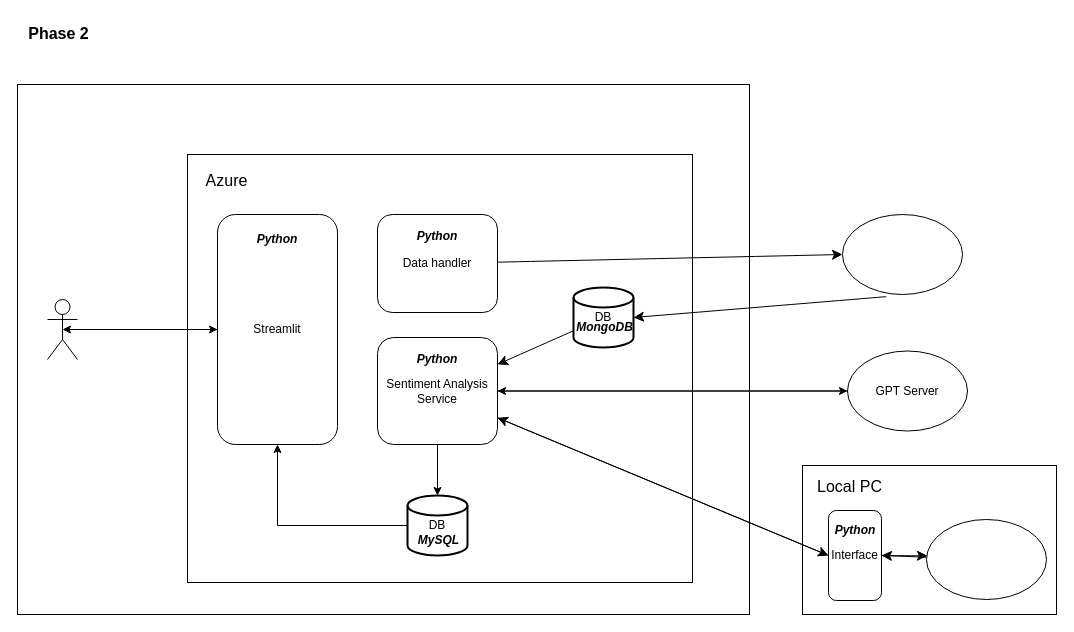
Image size: 1074x632. Some labels were removed from this diagram. The centre of each missing label's shape, as x and y in pixels:
Actor: (62,329)
Data Providers: (902,254)
Local LLM Model: (986,559)
